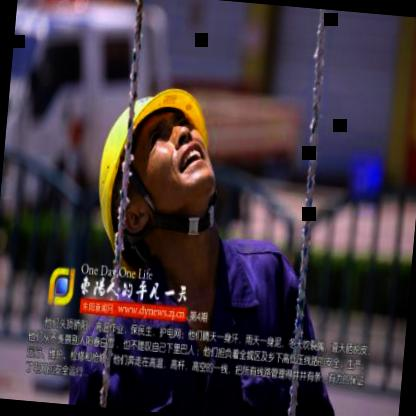helmet: (102, 66, 232, 248)
